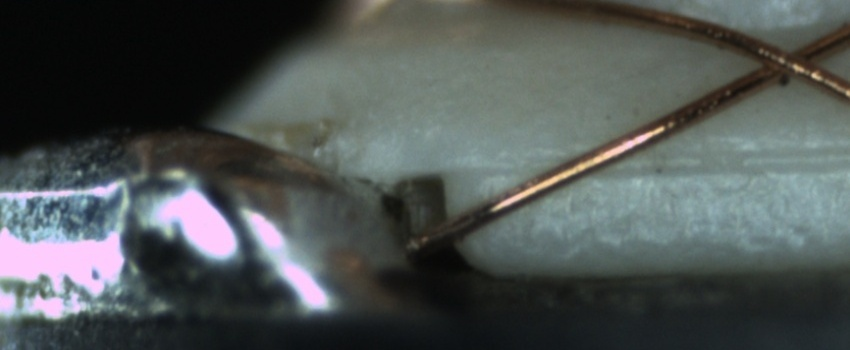CL: (740, 30, 840, 89)
DL: (490, 131, 849, 190)
